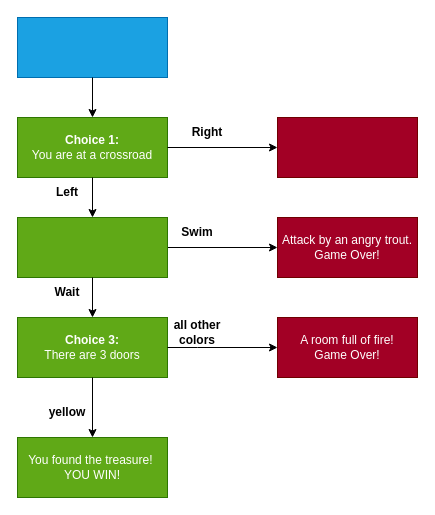
The diagram is 435 pixels wide and 515 high, and some of its shapes have lost their labels. The shapes that lost their labels are listed below. From the top down, each one's centre as x and y in pixels, then its label:
the point at 92,47: START
the point at 347,147: Fell in a hole. Game Over!
the point at 92,247: Choice 2: You've come to a lake
